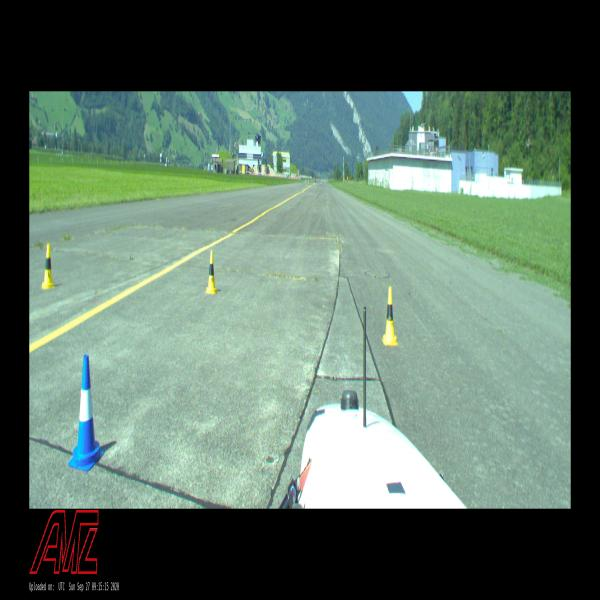blue_cone: (68, 355, 105, 471)
yellow_cone: (382, 286, 398, 346), (41, 243, 55, 290), (205, 250, 217, 294)
